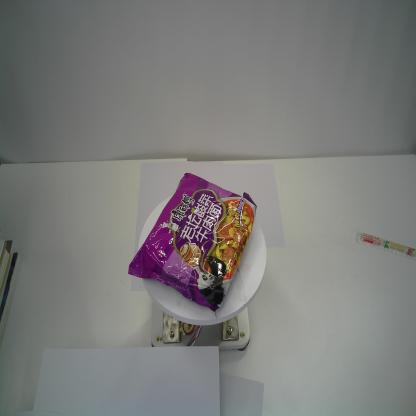Instant Noodles: (127, 172, 258, 313)
